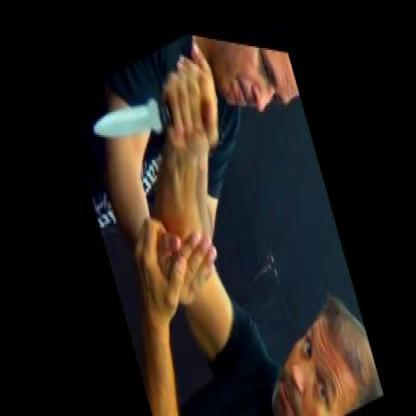knife: (78, 18, 230, 202)
